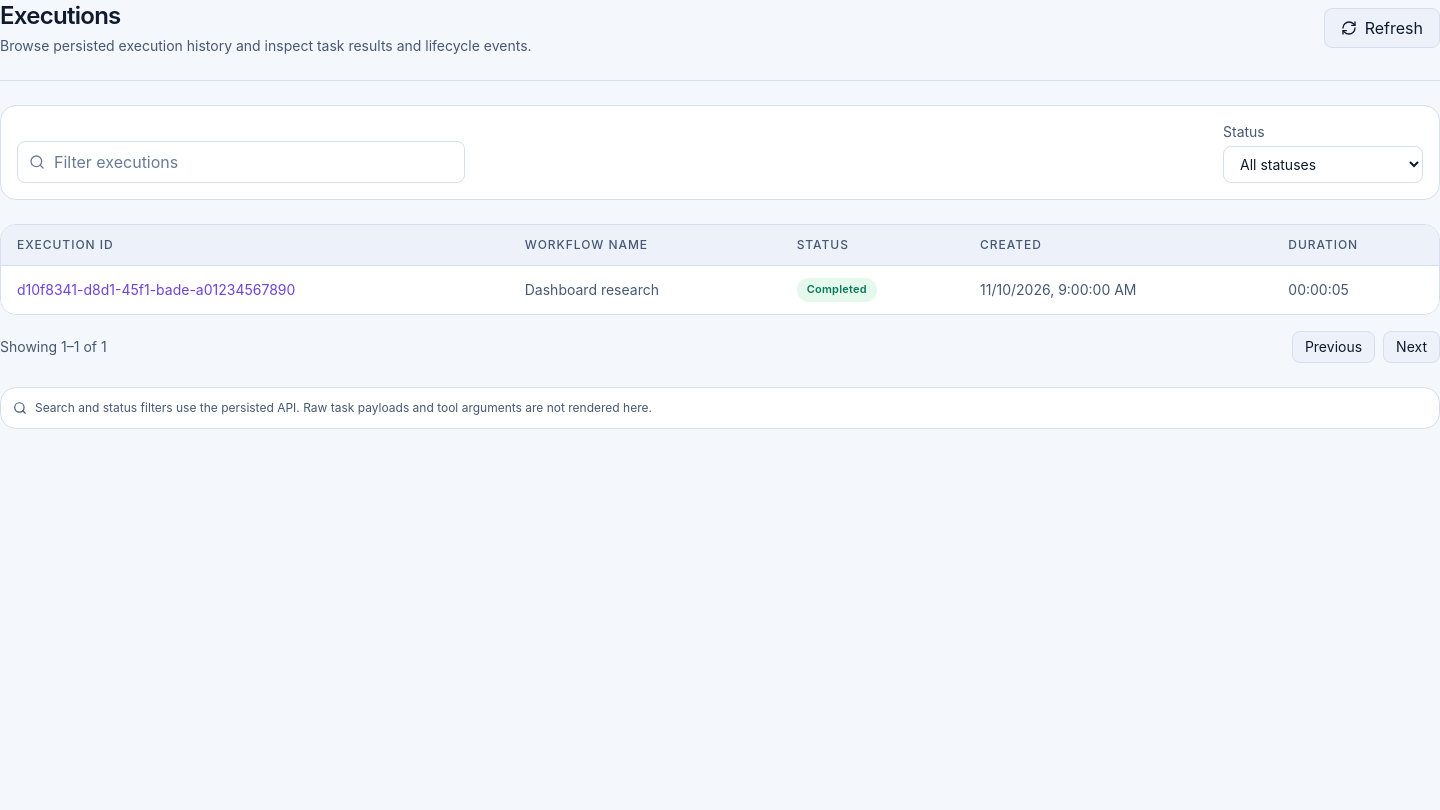
Scenario: ExecutionsPage › confirms an approval, prevents duplicate submissions, and refreshes details
Step 1. Click the button "d10f8341-d8d1-45f1-bade-a01234567890" → [156, 290], box [17,280,295,300]
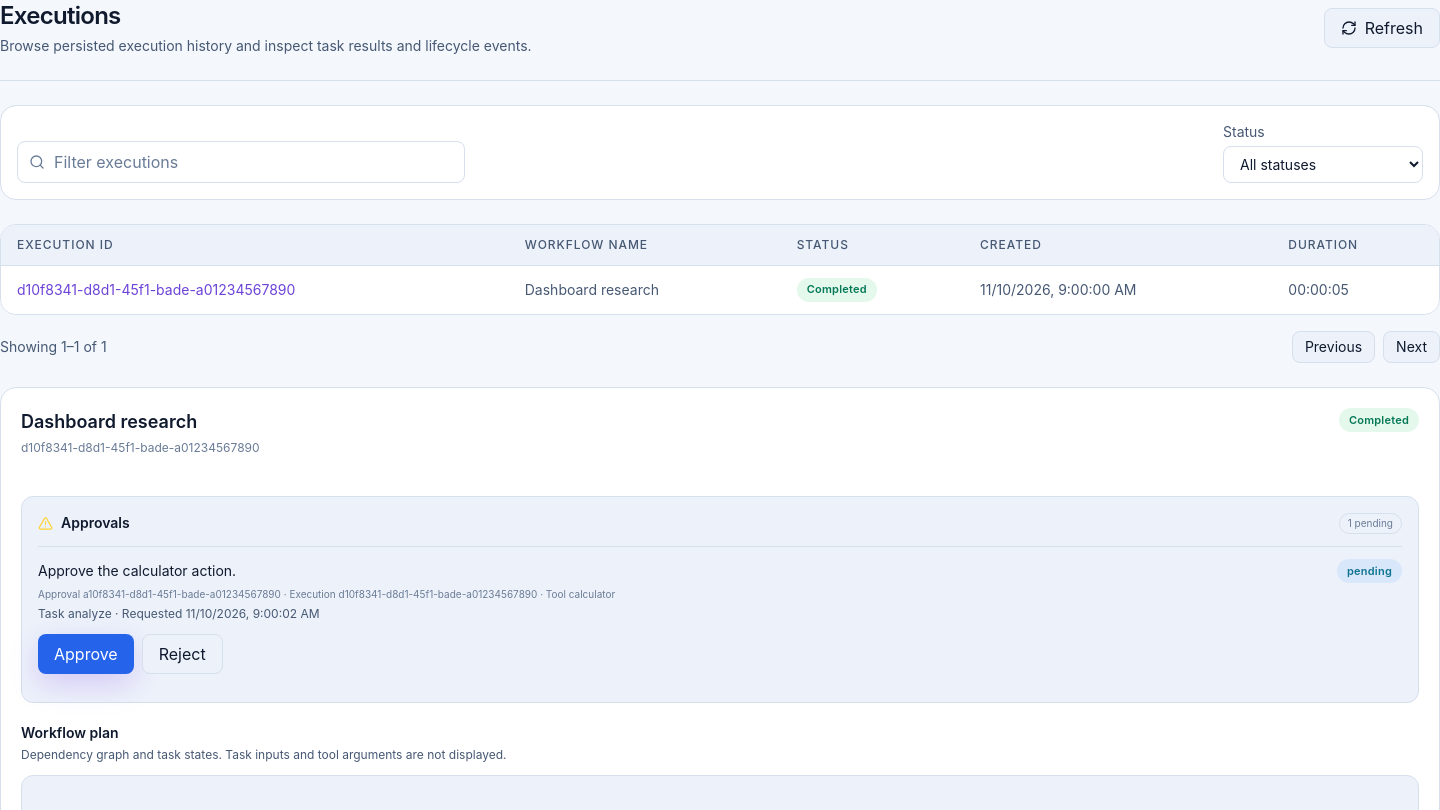
Result: the text "Tool calculator" is shown at [38,588,615,600]
Step 2. Click the button "Approve" → [86, 654], box [38,634,134,674]
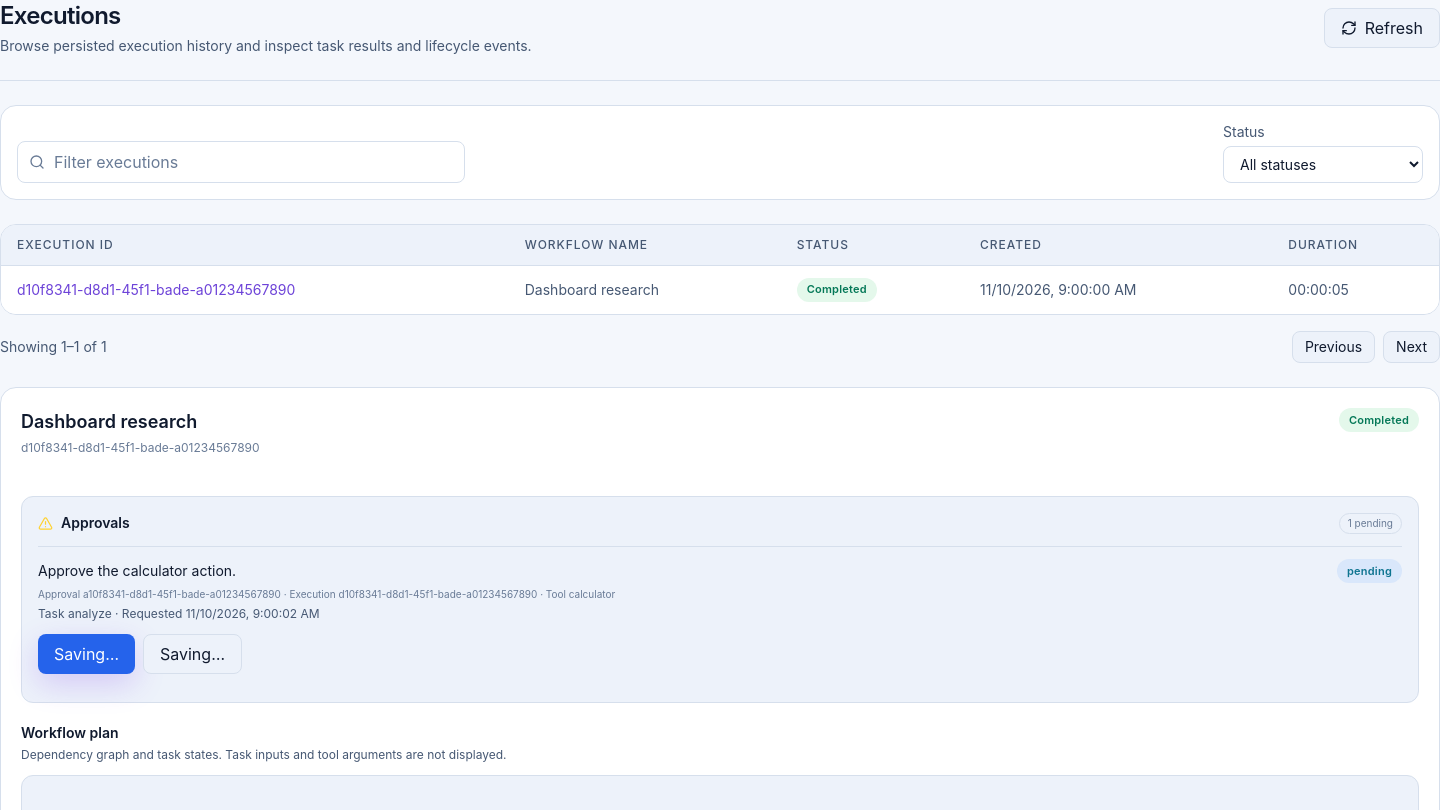
Result: the 1st button "Saving…" is disabled
Step 3. Click the 1st button "Saving…" → [86, 654], box [38,634,135,674]
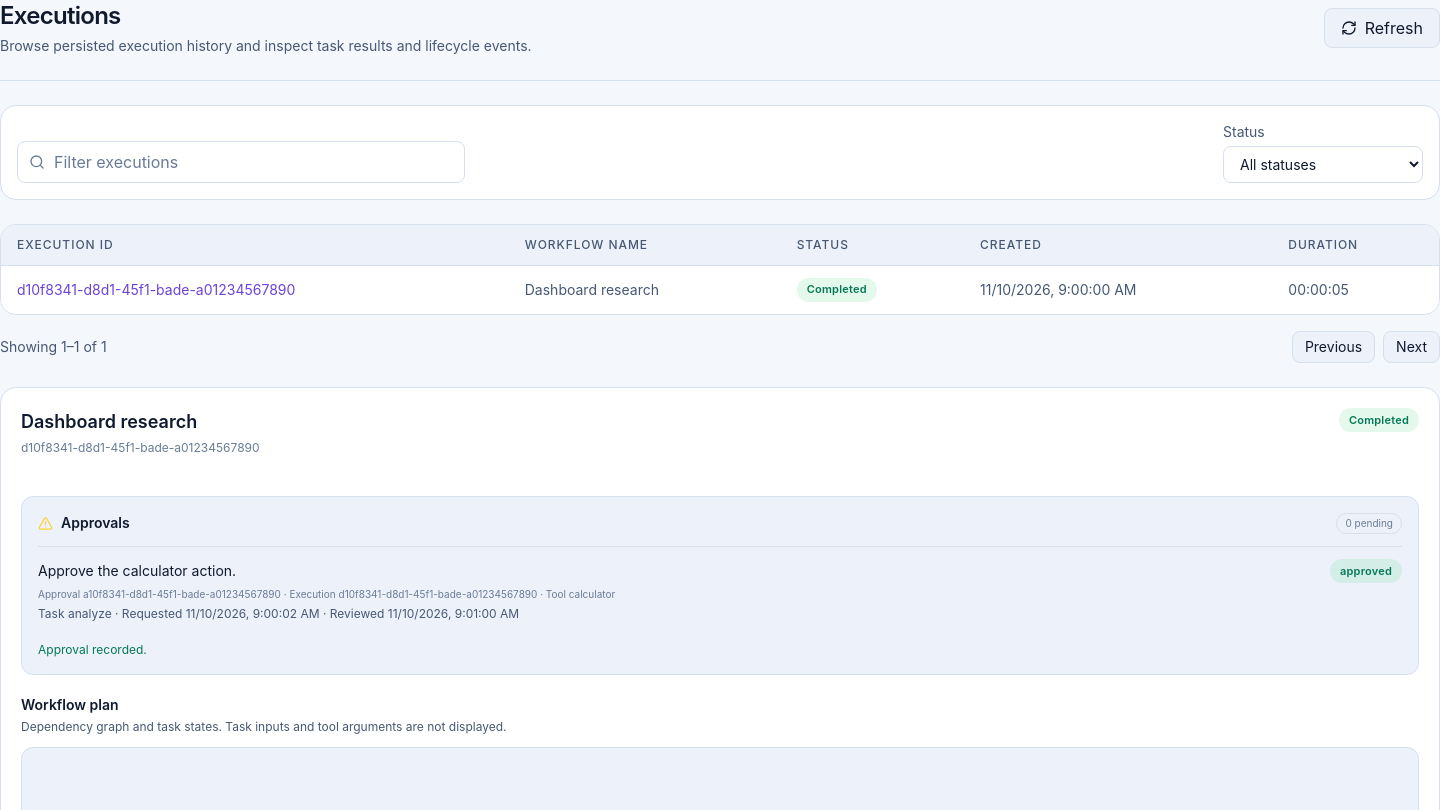
Result: the text "approved" is shown at [1330,559,1402,583]
Result: the text "Approval recorded." is shown at [38,642,147,657]
